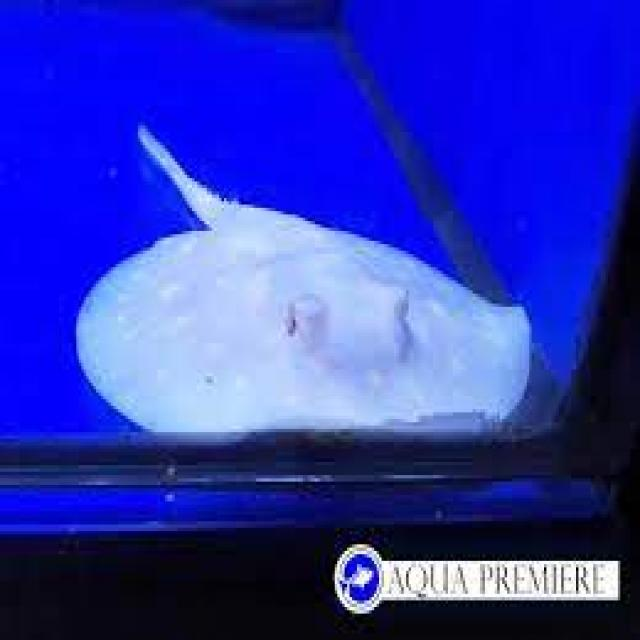albino-sting-ray: (75, 83, 548, 477)
